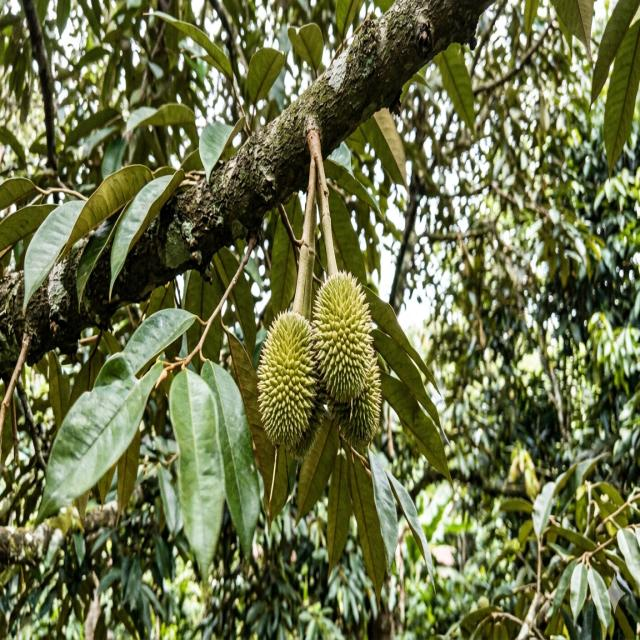immature: (256, 307, 324, 452), (310, 269, 376, 404)
